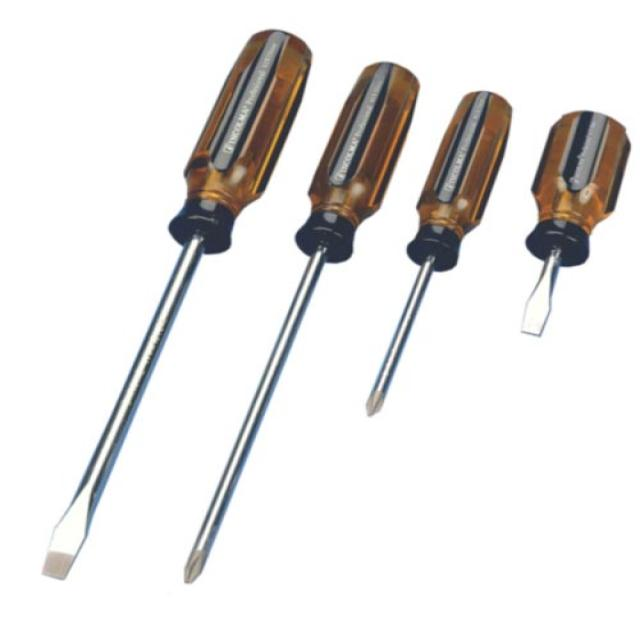screw driver: (343, 85, 518, 415), (490, 101, 640, 371)
